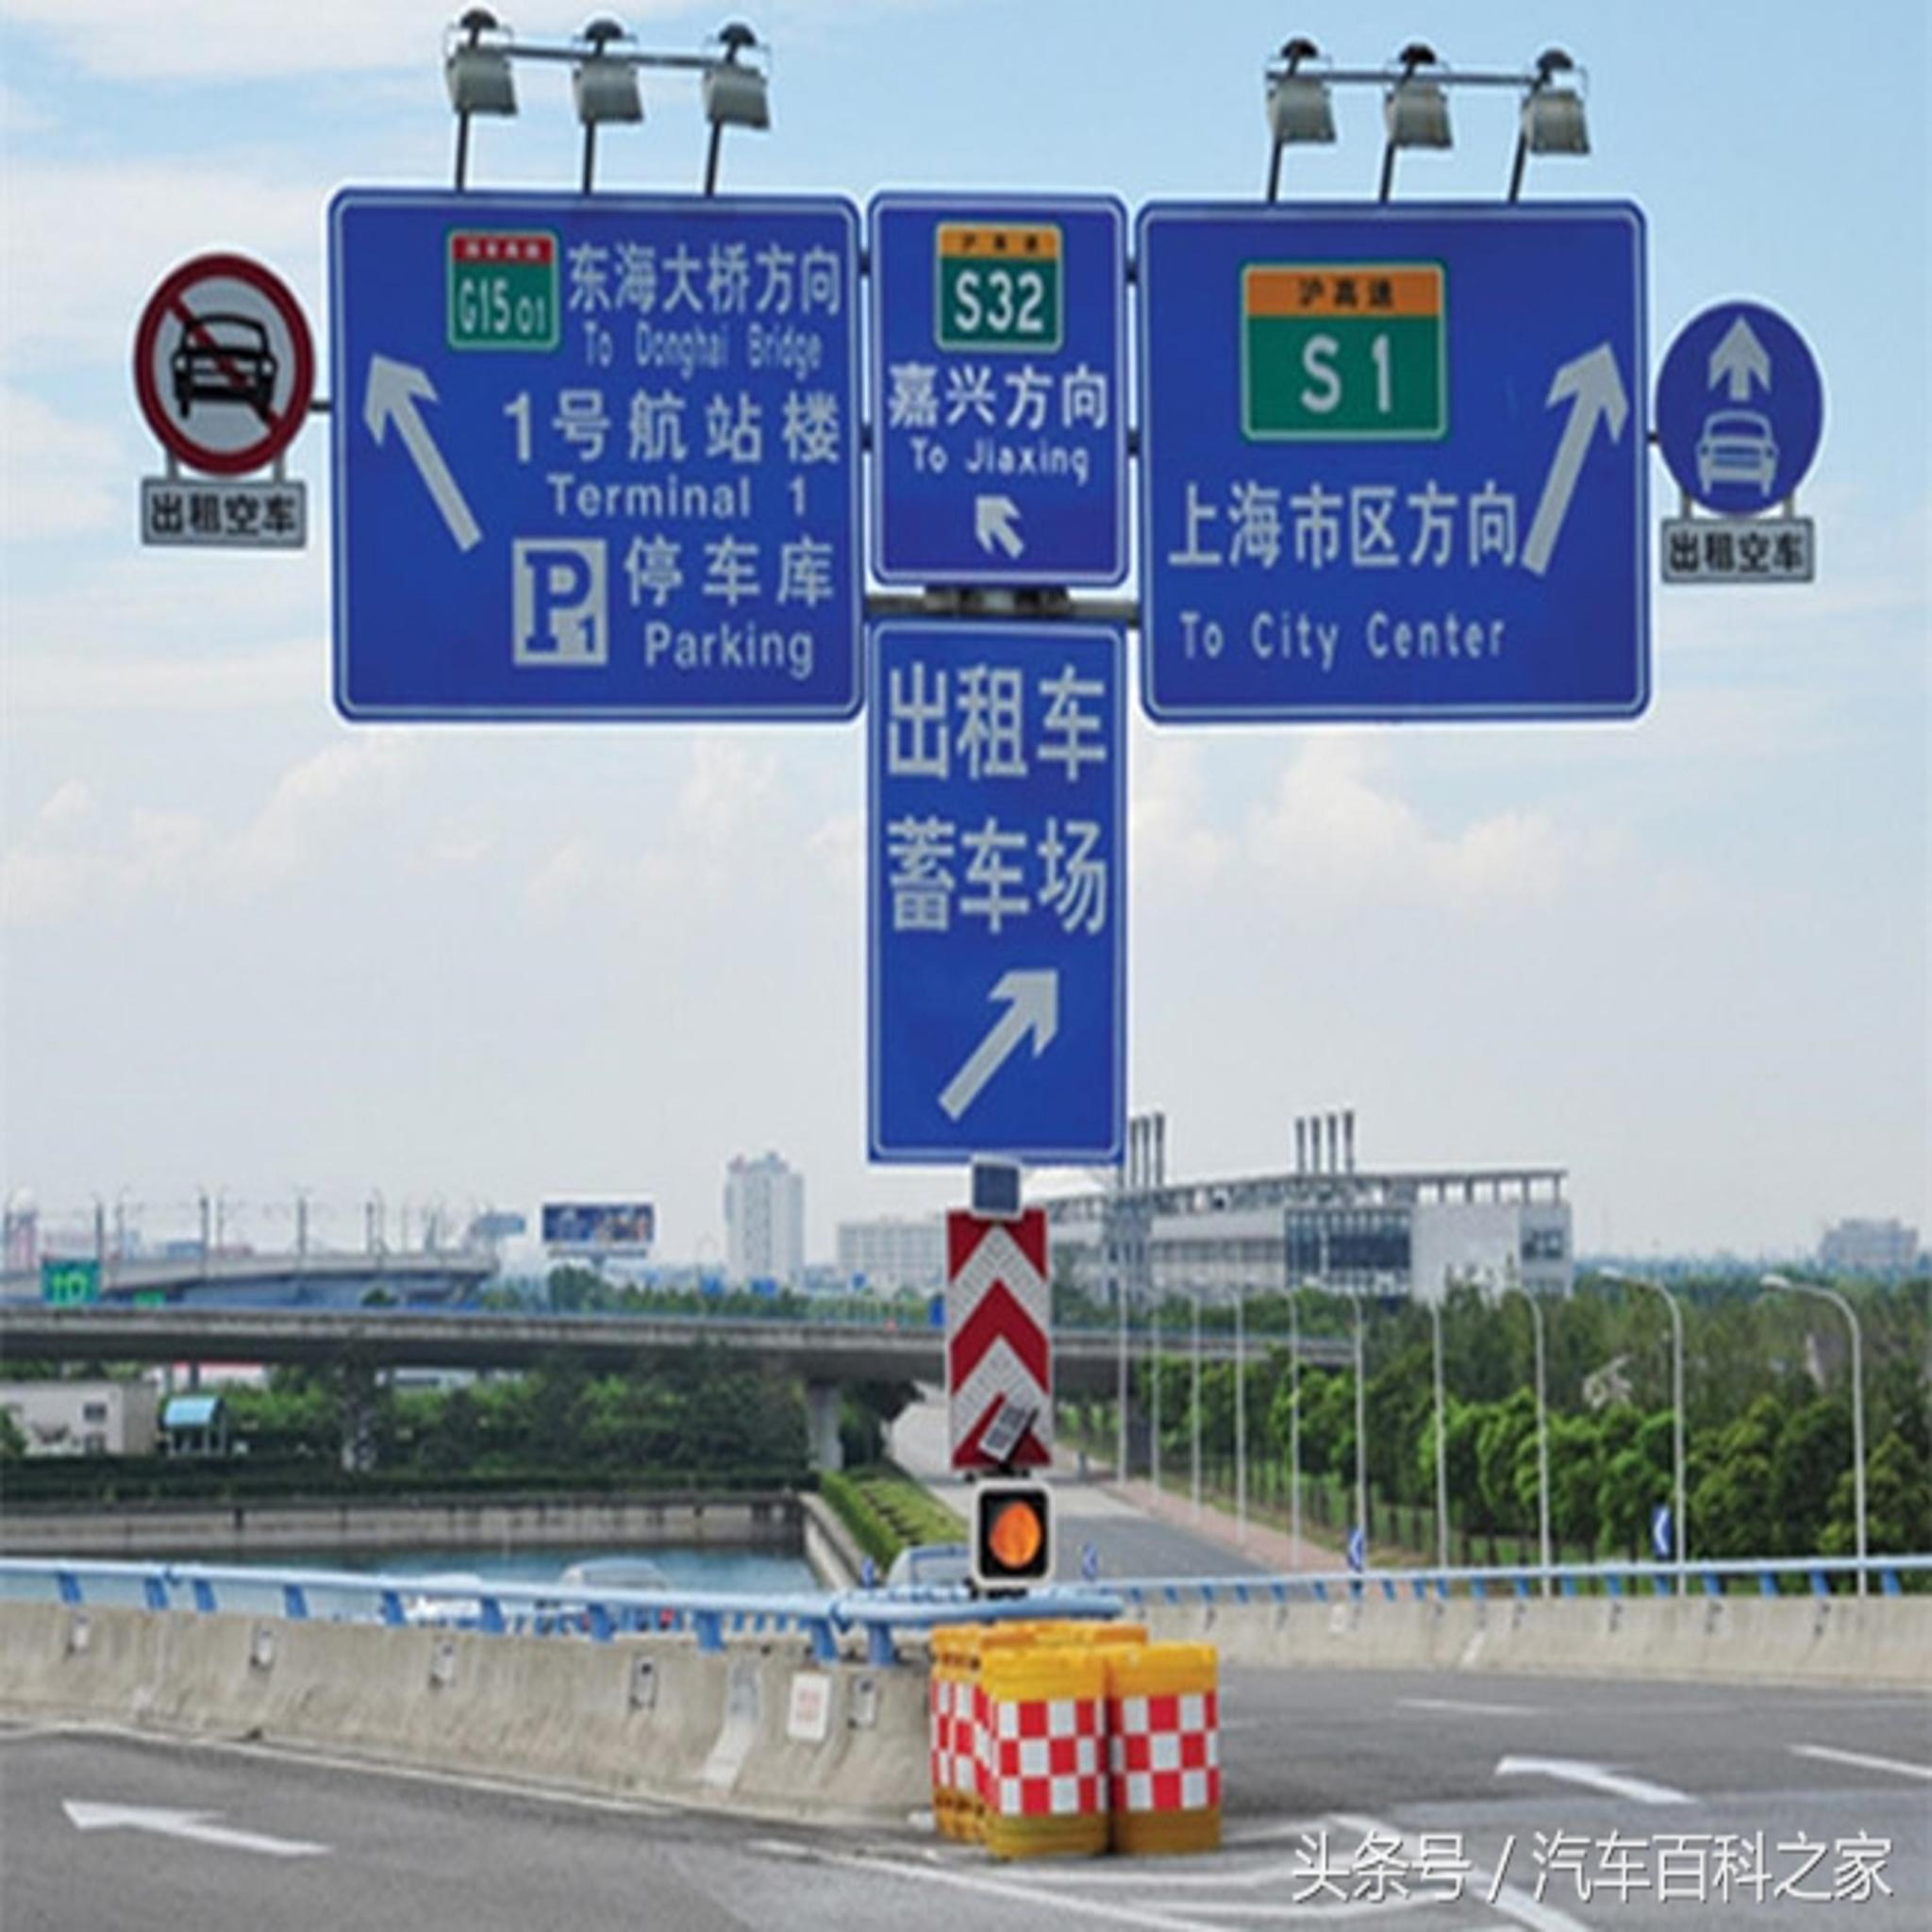p10: (129, 251, 322, 481)
